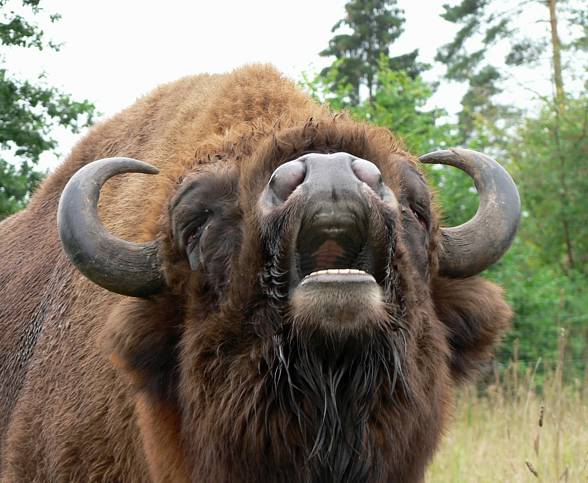zubr: (1, 38, 522, 482)
